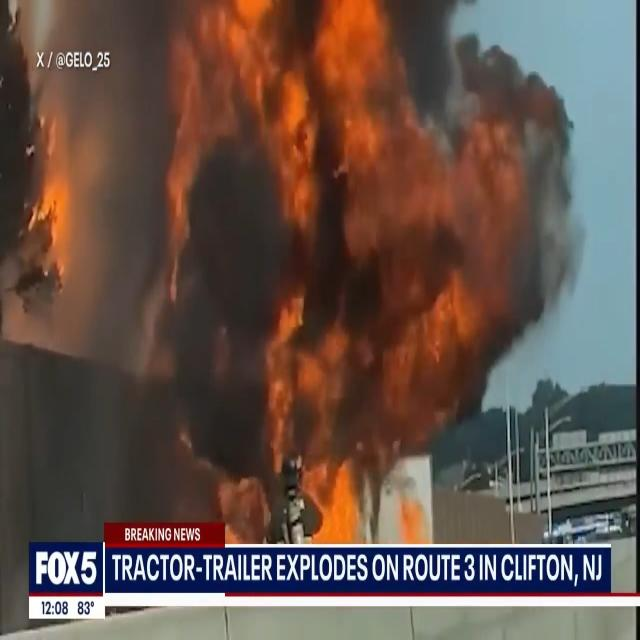fire: (112, 0, 486, 548)
